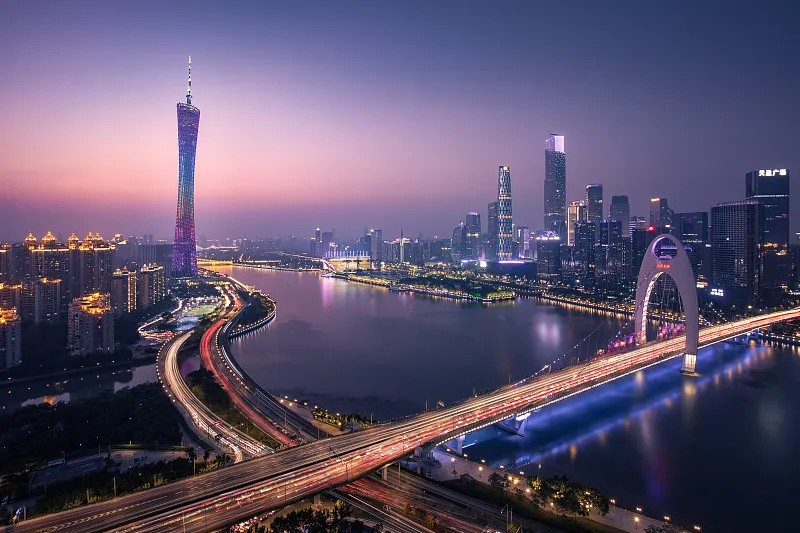Canton: (172, 55, 201, 278)
